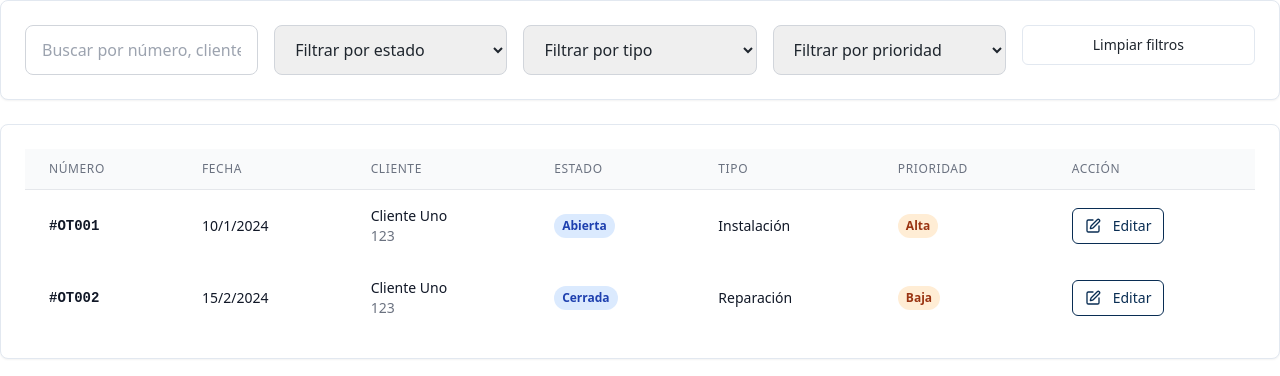
Test case: OrdersTable › limpia los filtros correctamente
Select "Alta" in the 3rd dropdown at point(889, 50), box [773,25,1006,75]
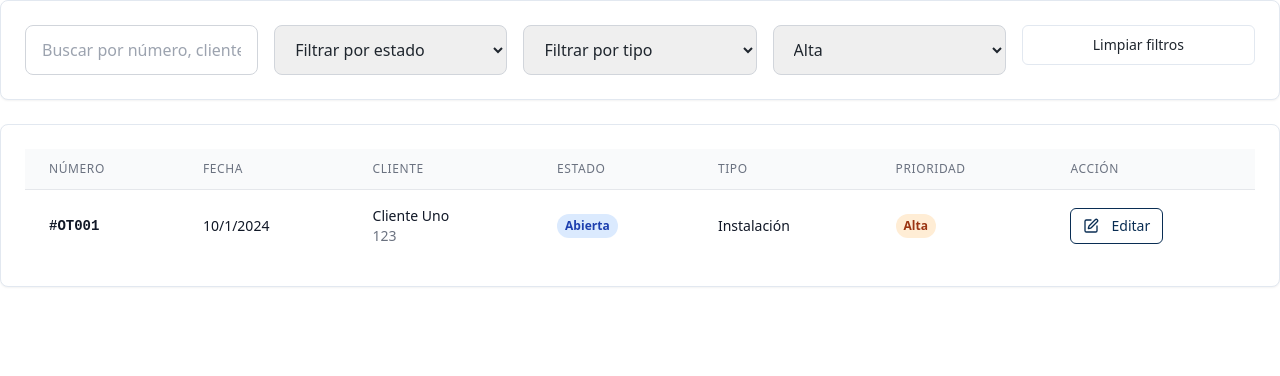
Now the text "#OT002" is gone
Click the button "Limpiar filtros" at point(1138, 45), box [1022,25,1255,65]
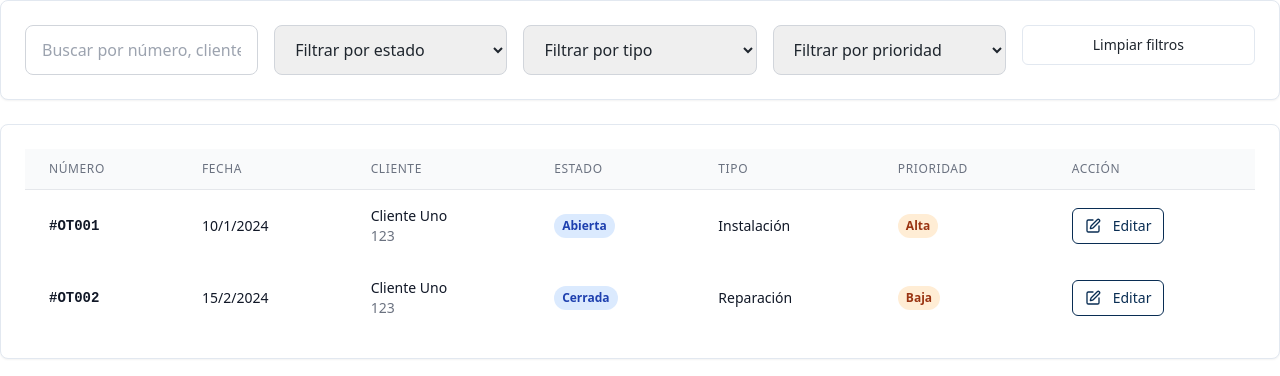
Expected: the text "#OT001" is shown, [25,190,178,262]
Now the text "#OT002" is shown, box [25,262,178,334]
